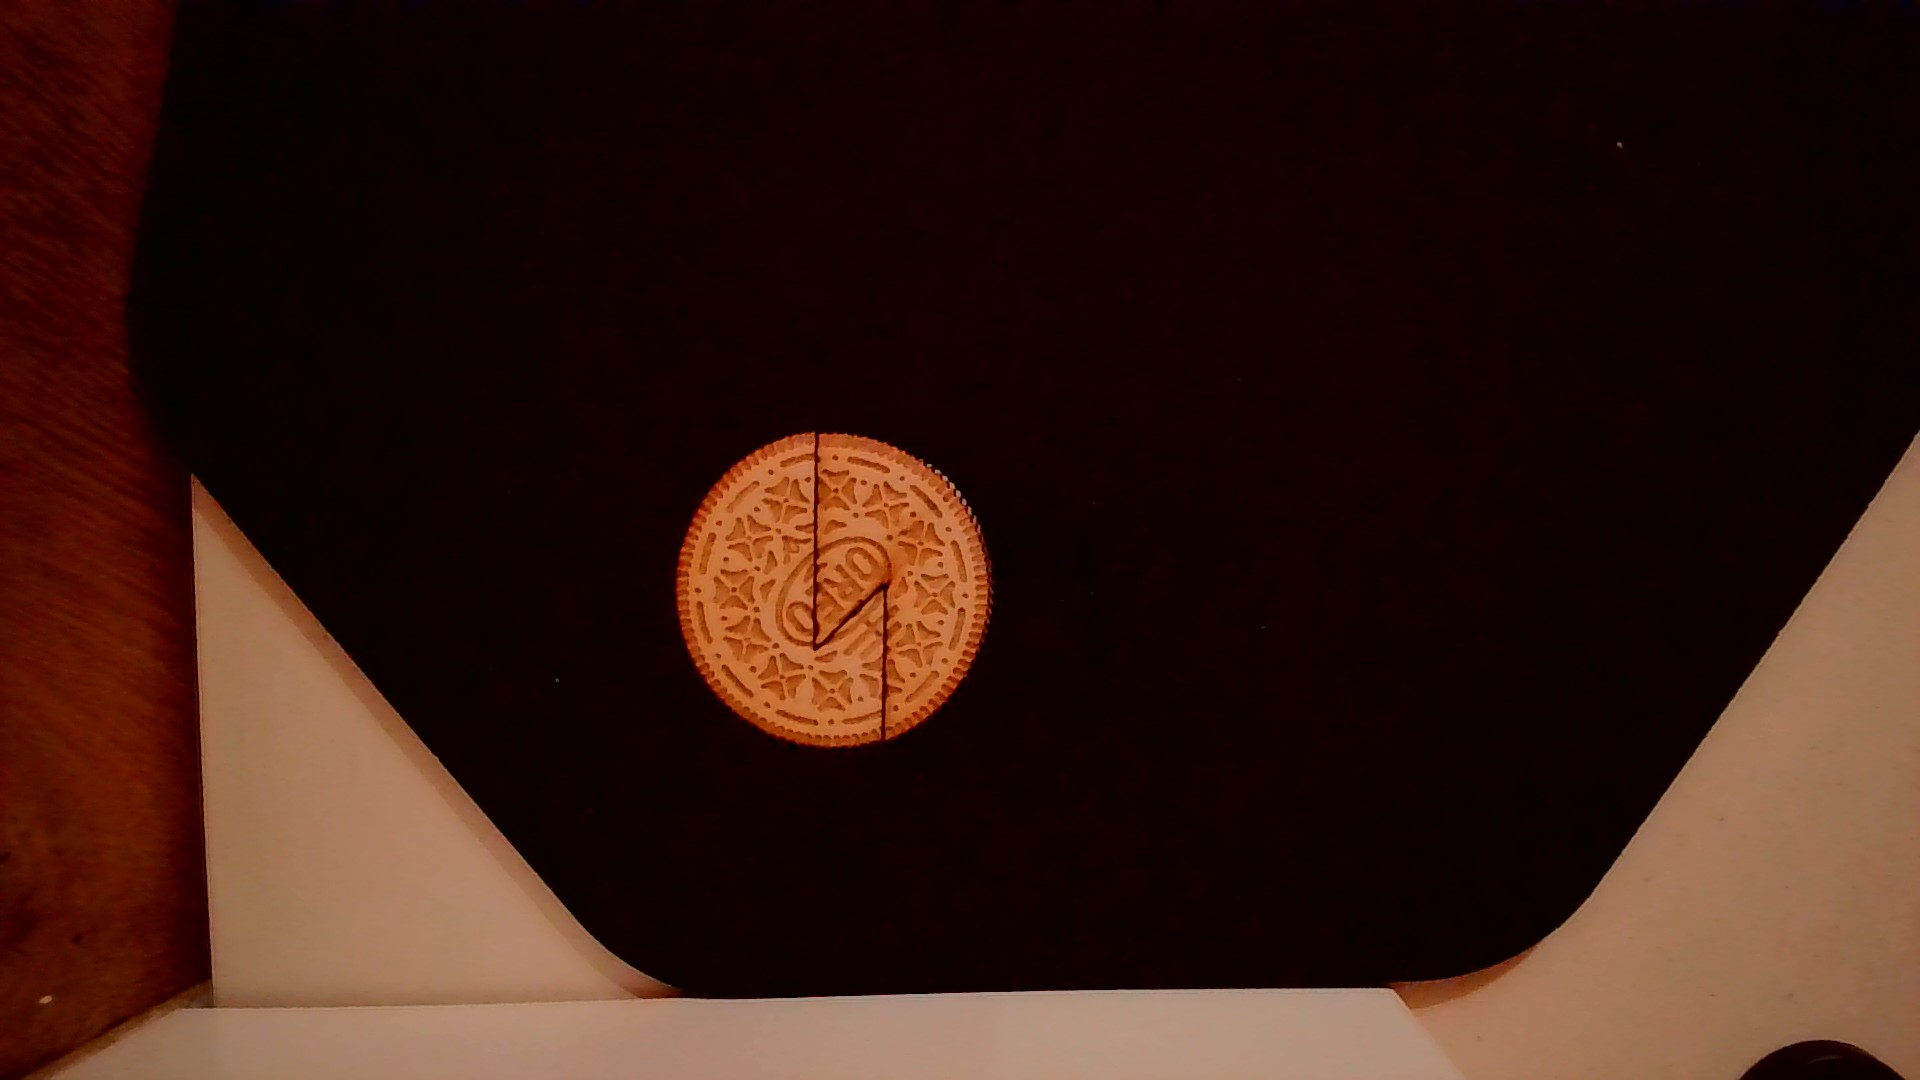Fissure: (804, 425, 891, 753)
Oréo: (665, 425, 1004, 756)
